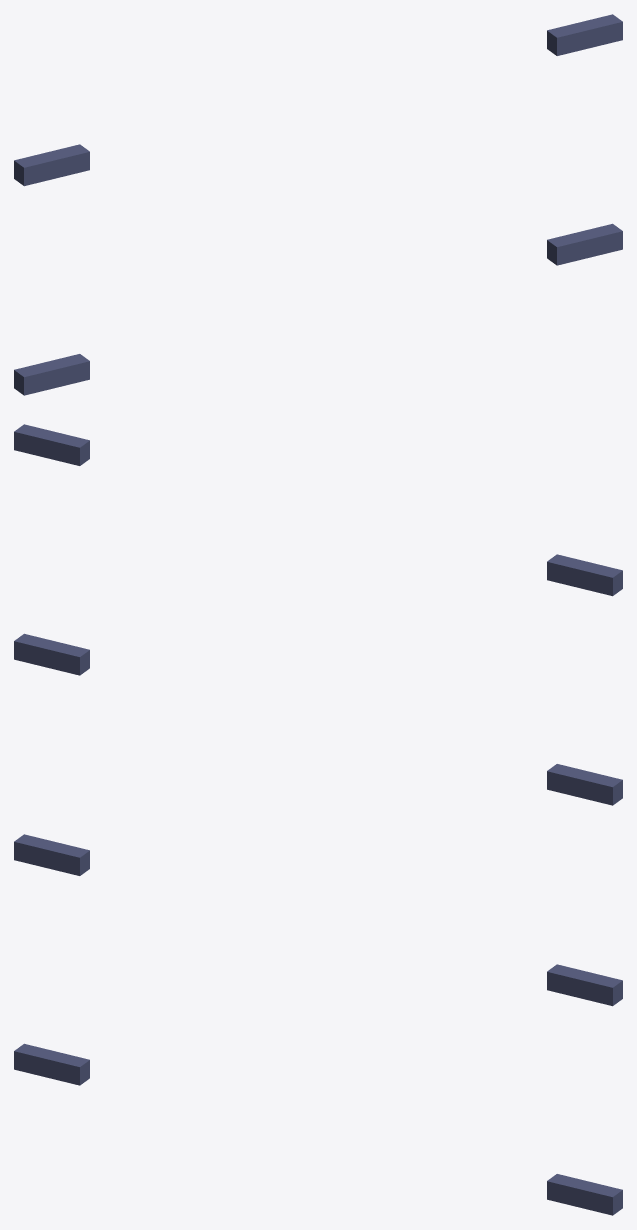
Rendered from Connect.fbx.
3 renders of one model, top to bottom at view 1: azimuth 30°, elevation 25°; view 2: azimuth 150°, elevation 25°; view 3: azimuth 330°, elevation 25°, orthographic.
Visible parts, largest first — view 1: Connect; view 2: Connect; view 3: Connect.
Part boxes in pixels (bbox=[...]): Connect: bbox=[14, 14, 622, 395]; Connect: bbox=[14, 424, 622, 805]; Connect: bbox=[14, 834, 622, 1215].
Size of the model in its own units: 4.36 by 1.59 by 0.1282.
